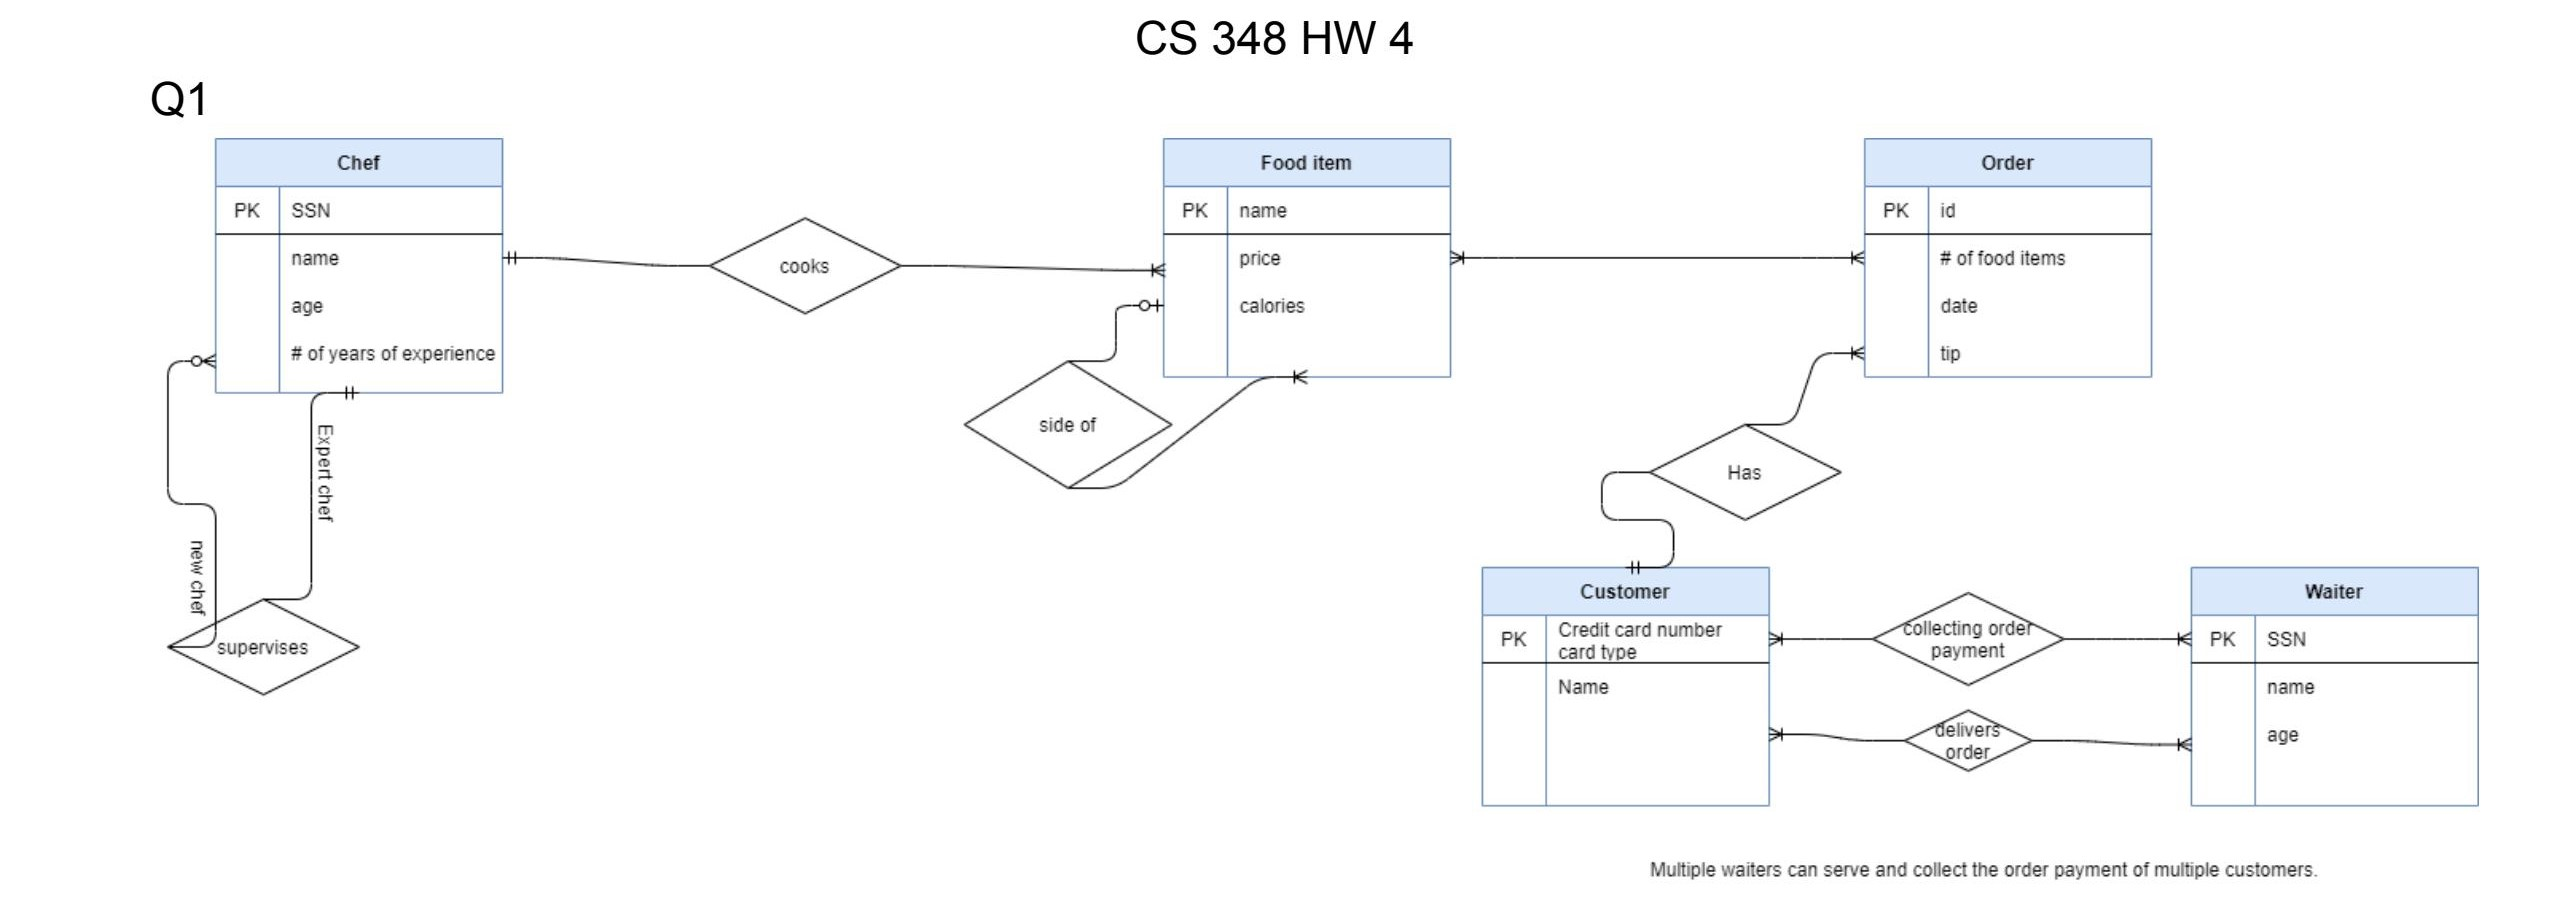Entity: (213, 137, 506, 395), (1860, 135, 2155, 381), (1161, 135, 1454, 381), (2187, 564, 2482, 808), (1480, 564, 1773, 808)
Relationship: (963, 359, 1173, 491), (709, 216, 903, 316), (168, 599, 359, 698), (1647, 425, 1843, 520), (1873, 590, 2065, 688), (1904, 708, 2031, 773)
